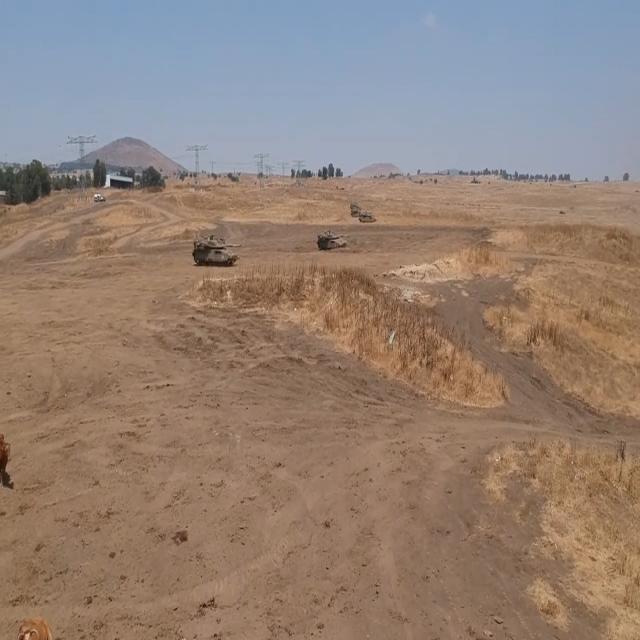tank: (187, 223, 239, 269), (316, 230, 349, 255), (359, 206, 376, 227), (351, 195, 358, 212)
